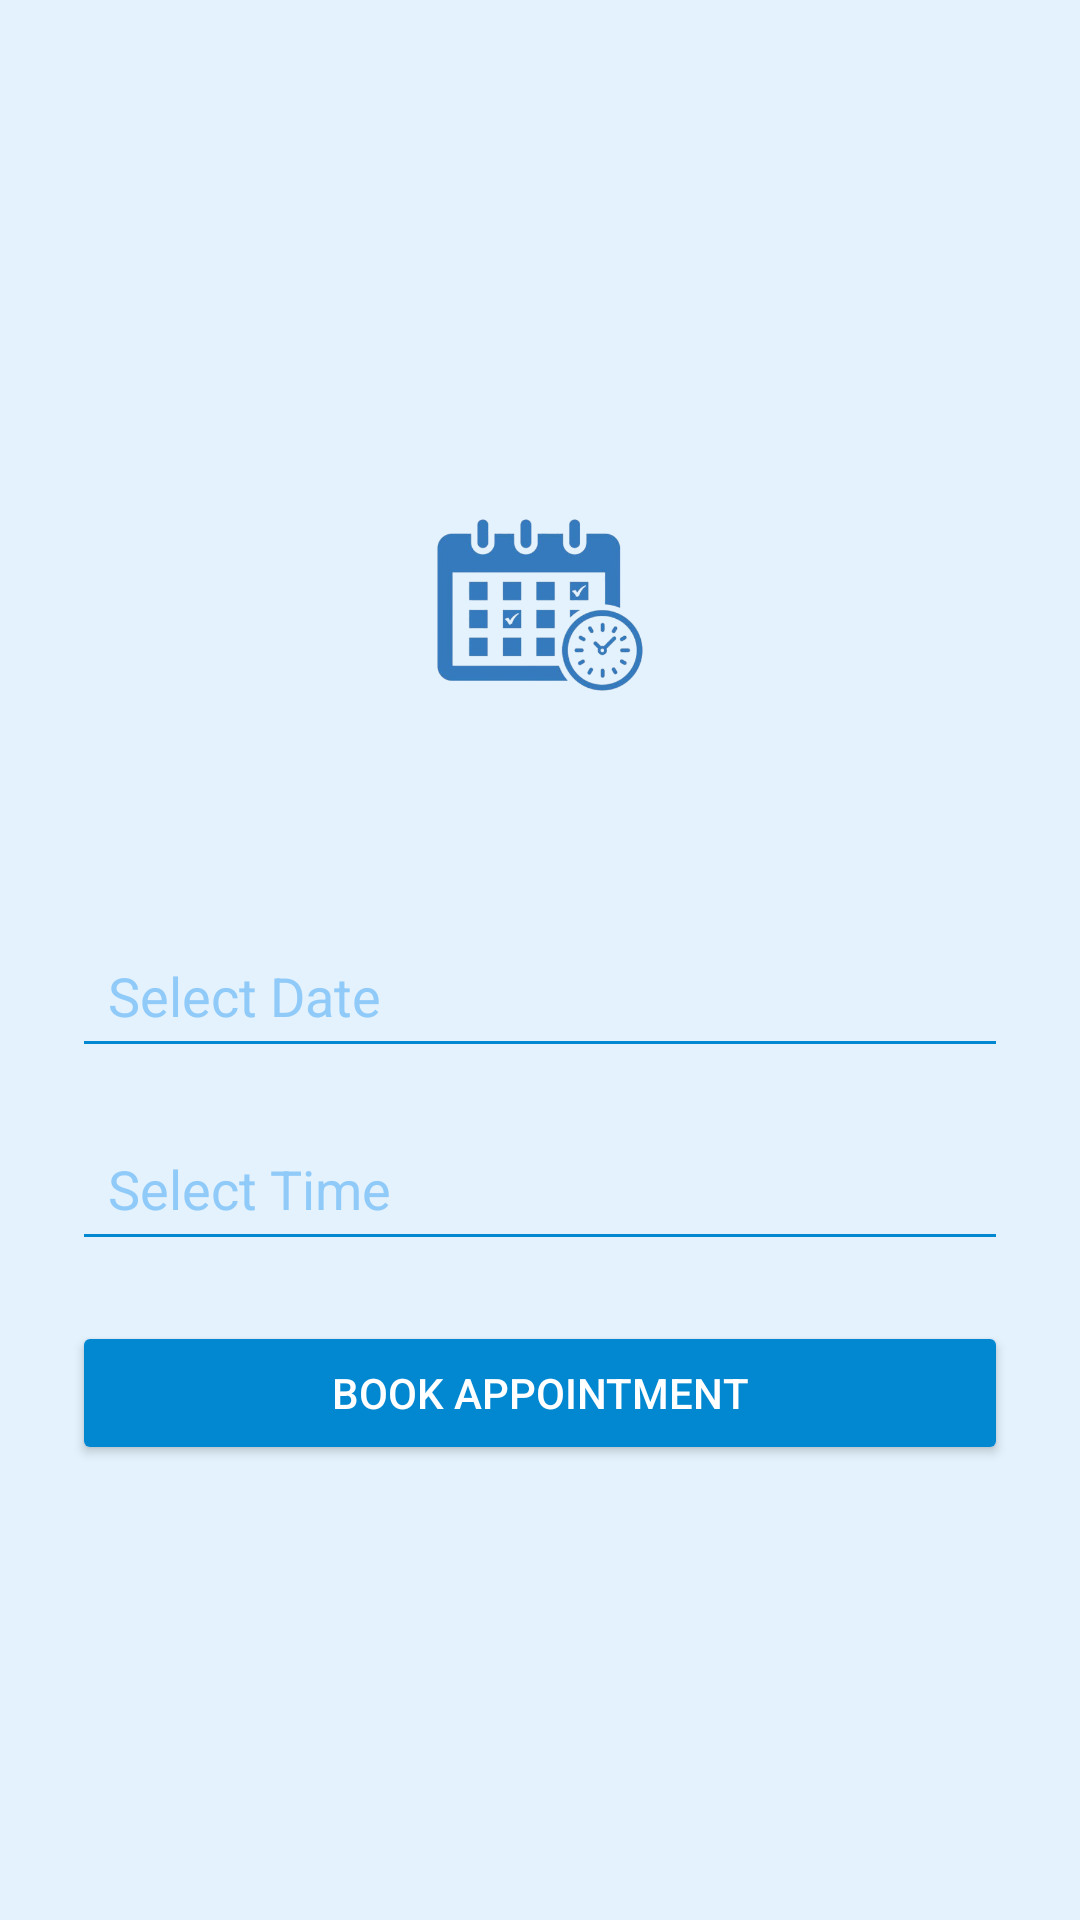

Icon click points for this 1080 x 1920 phone screenshot, format point (x, y):
Appointment Icon: point (540, 605)
